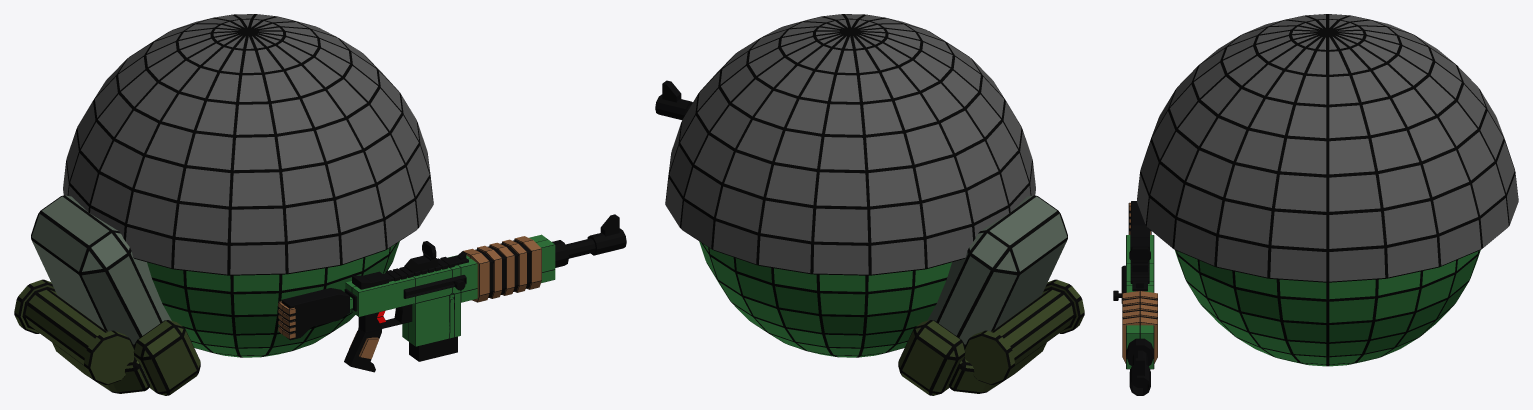
File: RifleSoldiers.fbx
3 views of the same model, side by side, from view 1: azimuth 30°, elevation 25°; view 2: azimuth 150°, elevation 25°; view 3: azimuth 270°, elevation 25° (orthographic). The views are drawn at different scales.
Visible parts, largest first — view 1: Sphere, Cube, Rifle, RifleBarrel, RifleMagazine, RifleScope; view 2: Sphere, Cube, RifleBarrel; view 3: Sphere, Rifle, RifleBarrel, RifleScope.
Boxes of the visible parts, box(x1,y1,x2,y2) form: Sphere: box(63, 14, 433, 357); Cube: box(14, 195, 200, 395); Rifle: box(278, 234, 555, 372); RifleBarrel: box(552, 214, 626, 267); RifleMagazine: box(409, 336, 457, 361); RifleScope: box(404, 241, 438, 273); Sphere: box(665, 14, 1035, 357); Cube: box(898, 195, 1084, 395); RifleBarrel: box(655, 80, 692, 119); Sphere: box(1137, 14, 1518, 366); Rifle: box(1113, 201, 1157, 369); RifleBarrel: box(1126, 338, 1153, 395); RifleScope: box(1129, 247, 1150, 272).
Bounding box in the file's own units: 217 × 351 × 251.
